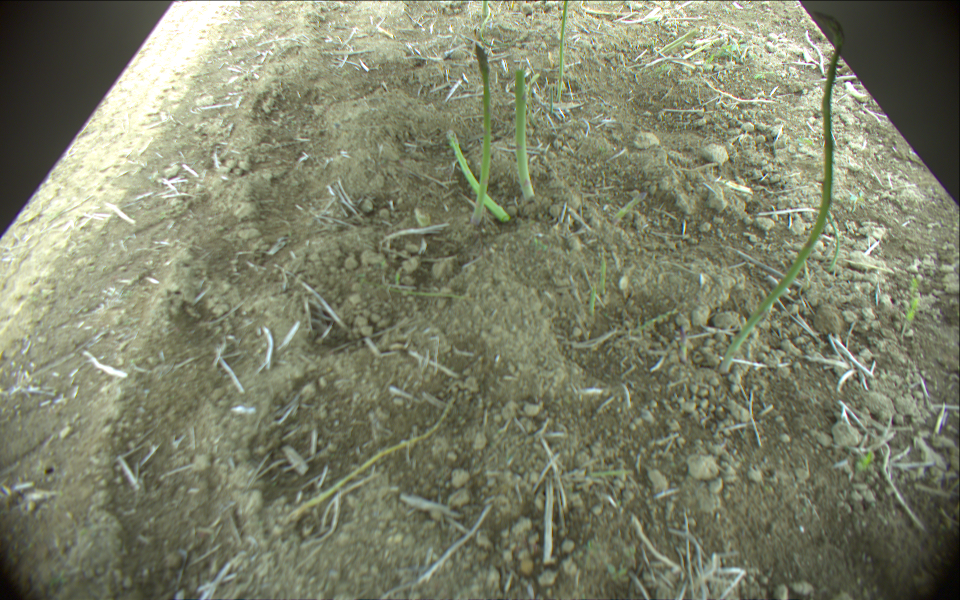aspa: (719, 10, 841, 373), (445, 129, 511, 223), (470, 42, 492, 232), (514, 70, 536, 199), (558, 1, 570, 101), (480, 1, 491, 25)
